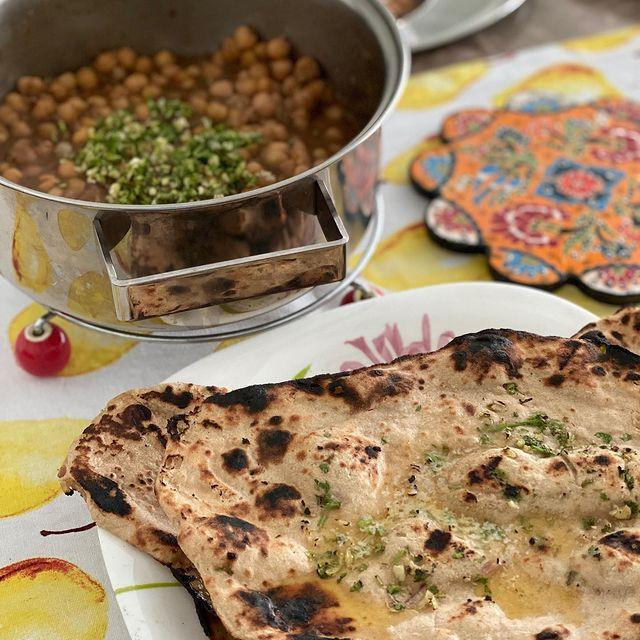Chole: (16, 20, 316, 148)
